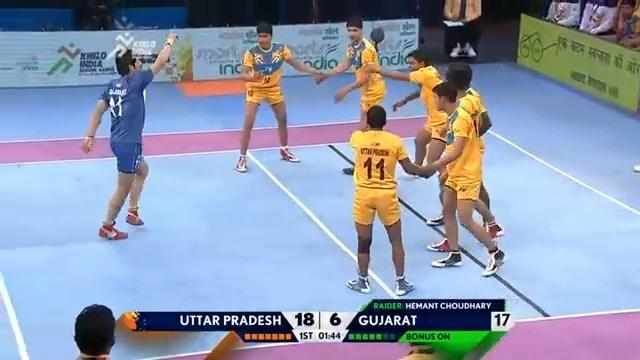Player: (344, 103, 444, 296), (425, 80, 505, 276), (234, 22, 323, 172), (313, 15, 386, 174), (366, 49, 449, 178)
Raider: (79, 31, 179, 240)
referee: (440, 0, 482, 59)
